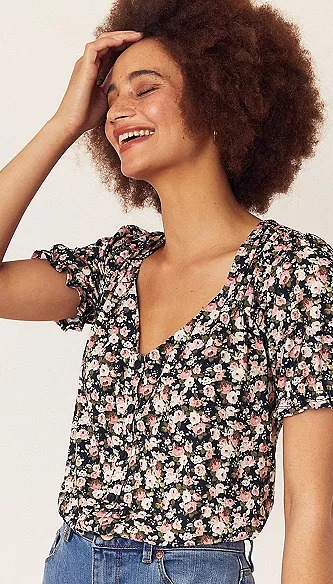C_short blouse: (37, 223, 333, 546)
